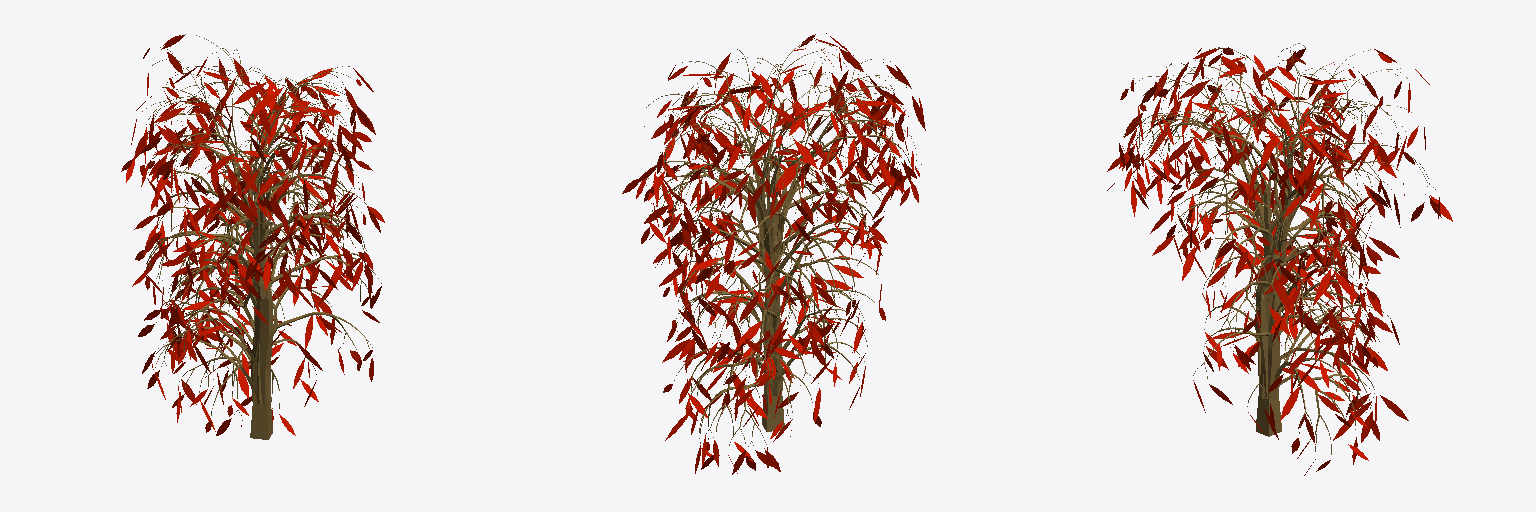
Rendered from willow_tree.obj.
3 views of the same model, side by side, from view 1: azimuth 30°, elevation 25°; view 2: azimuth 150°, elevation 25°; view 3: azimuth 270°, elevation 25° (orthographic).
Visible parts, largest first — view 1: willow_tree; view 2: willow_tree; view 3: willow_tree.
Part boxes in pixels (x1,y1,x2,y2): willow_tree: (121, 34, 384, 439); willow_tree: (622, 33, 925, 474); willow_tree: (1107, 43, 1452, 475).
Bounding box in the file's own units: 5.55 × 8.59 × 6.74.